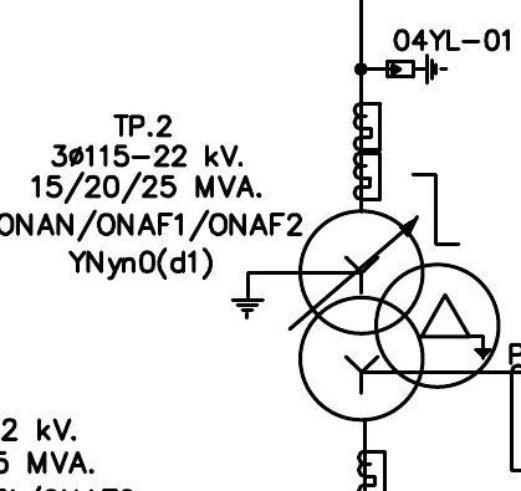11522_tx_ynyn0d1: (297, 208, 502, 423)
115_la: (385, 52, 449, 86)
